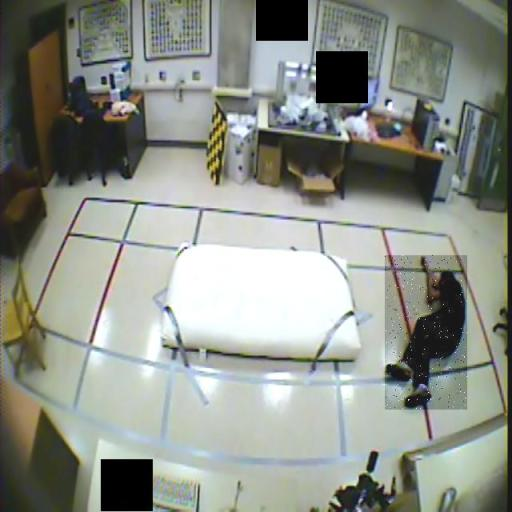Fall: (385, 255, 467, 410)
